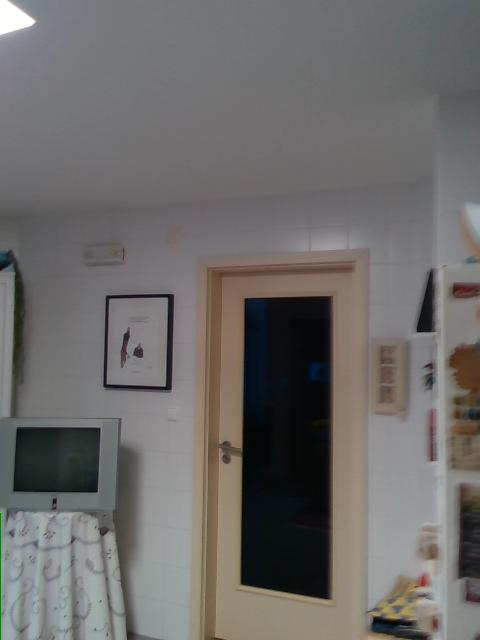closed_door: (196, 247, 367, 639)
